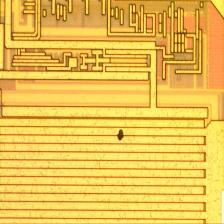PARTICLE: (114, 128, 130, 144)
